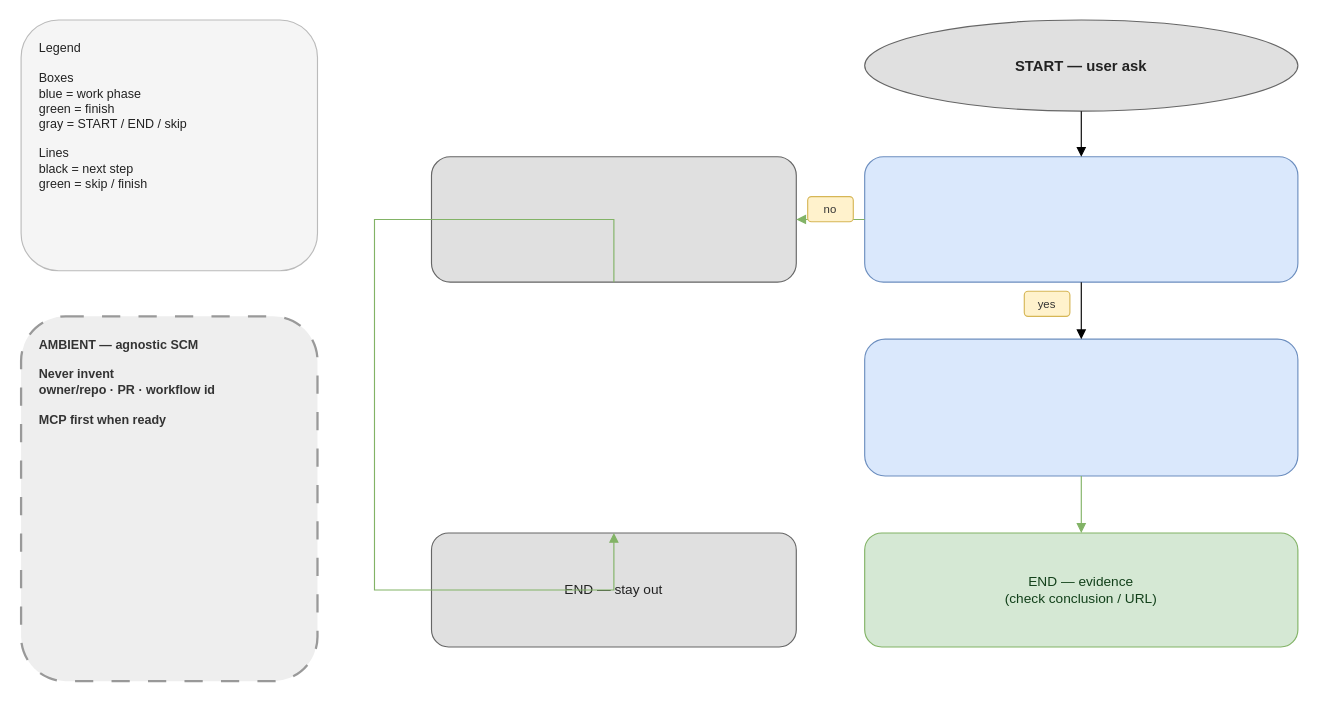
This 1318x702 diagram has some shape labels left out. Each missing label, with the centre of its shape:
"act via MCP checks · comments · workflow YAML hygiene" goes at pixel 1081 407.
"gate · GitHub work? PR / checks / comments / Actions ask or named PR" goes at pixel 1081 219.
"skip — no GitHub ordinary coding; do not open PRs to cover work" goes at pixel 613 219.
